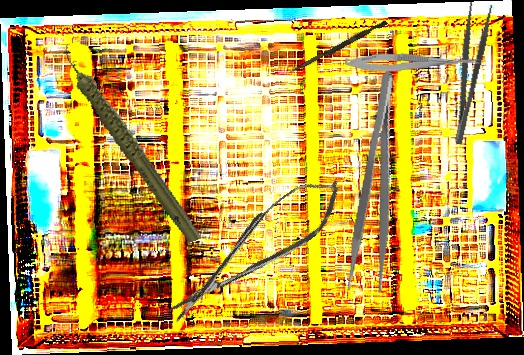Dressing Forceps: (343, 68, 417, 297), (439, 0, 496, 146)
Handpiece: (59, 23, 204, 262)
Micro Scissor: (151, 165, 356, 334), (344, 49, 486, 74)
Pusher: (289, 18, 388, 77)
